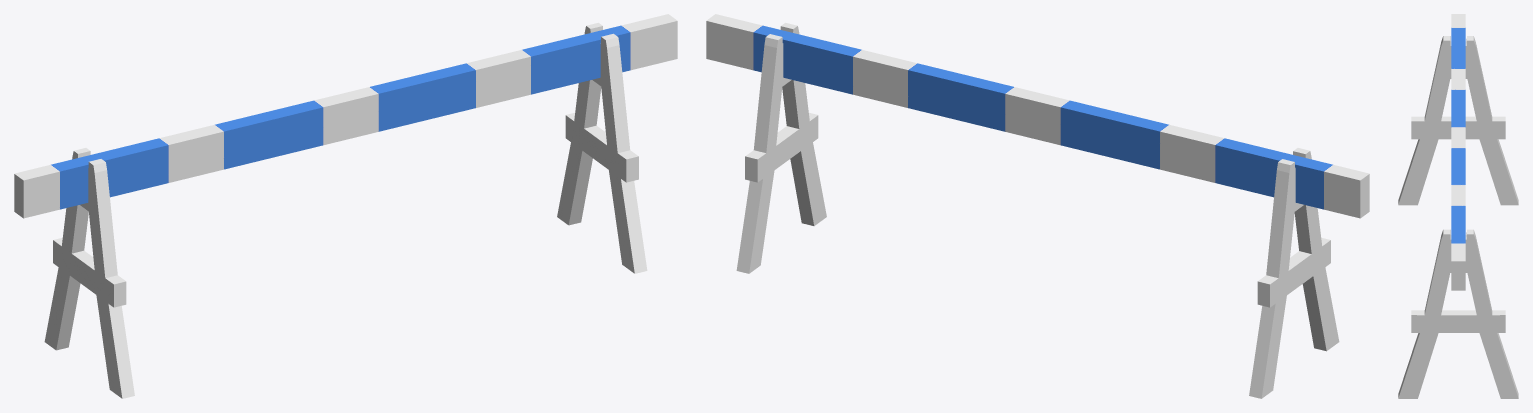
Rendered from prop_Barricade01.fbx.
3 views of the same model, side by side, from view 1: azimuth 30°, elevation 25°; view 2: azimuth 150°, elevation 25°; view 3: azimuth 270°, elevation 25° (orthographic). The views are drawn at different scales.
Visible parts, largest first — view 1: Box042; view 2: Box042; view 3: Box042.
Part boxes in pixels (x1=…): Box042: x1=14, y1=14, x2=677, y2=398; Box042: x1=706, y1=14, x2=1369, y2=398; Box042: x1=1398, y1=14, x2=1518, y2=398.
Bounding box in the file's own units: 180 × 55.86 × 37.09.
Materials: 1 (1 with a texture image).
